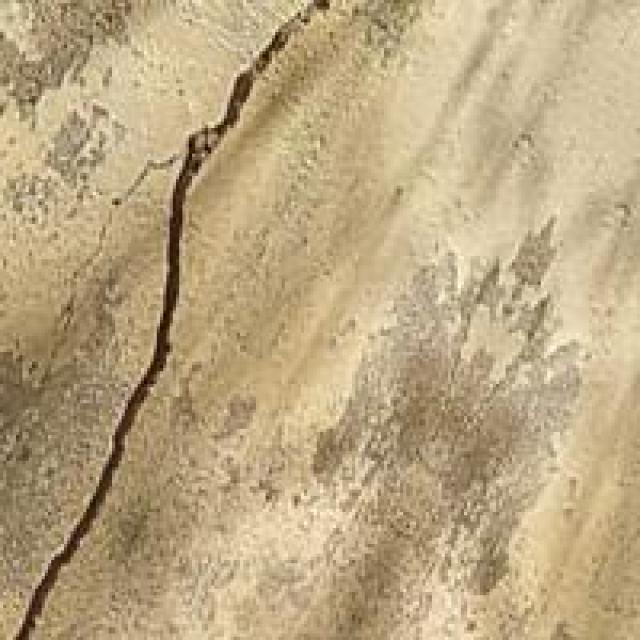Crack: (16, 9, 394, 636)
